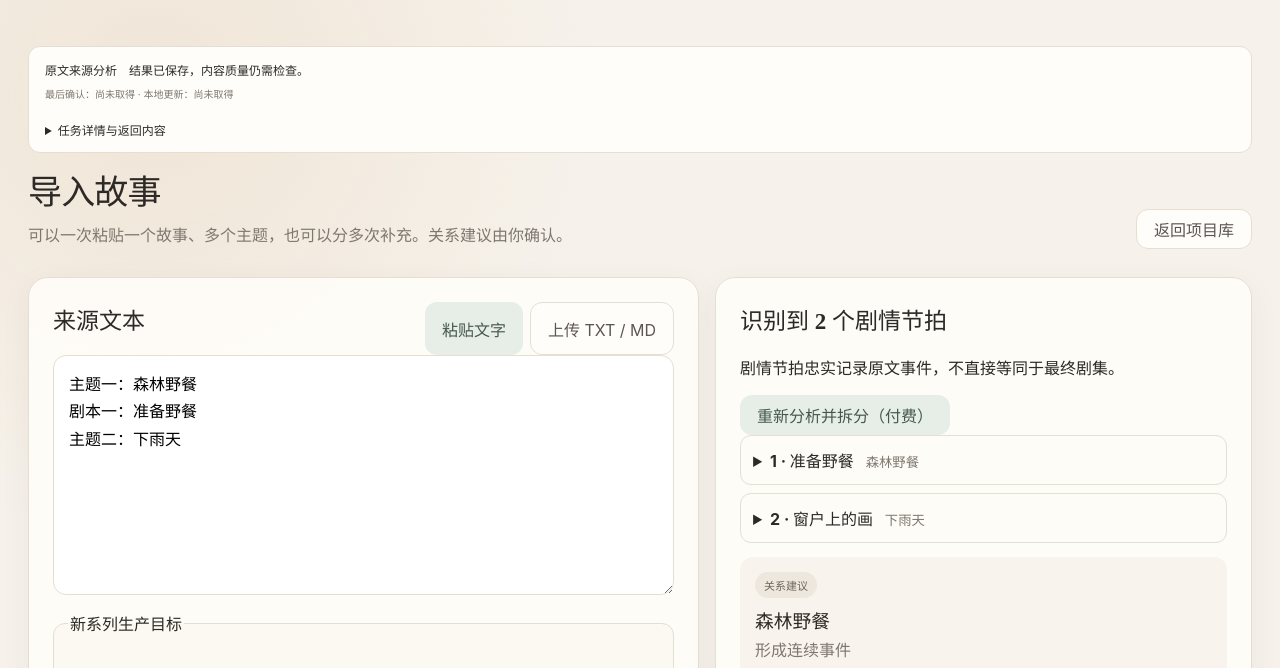
Test: StoryImportView › offers a paid reanalysis for an unconfirmed result and keeps the document id
Click the button with class "reanalyze-button": (845, 415) [740,395,950,435]
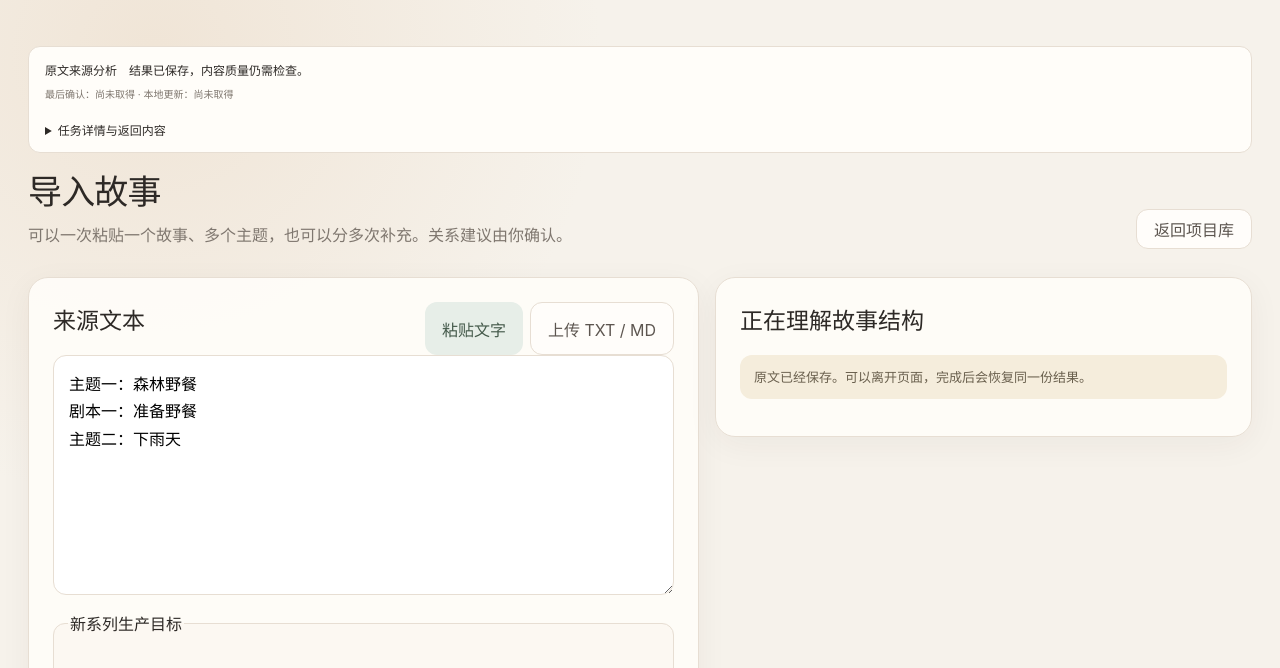
Check: the text "正在理解故事结构" is shown, box [740,309,924,334]
